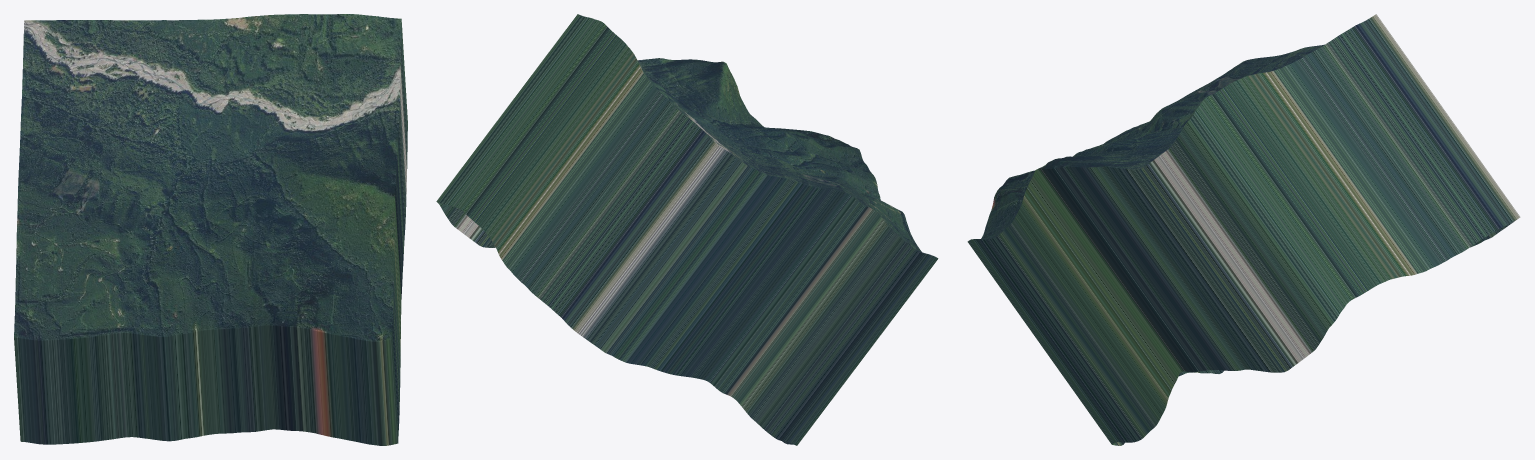
3 views of the same model, side by side, from view 1: azimuth 30°, elevation 25°; view 2: azimuth 150°, elevation 25°; view 3: azimuth 270°, elevation 25° (orthographic). The views are drawn at different scales.
Bounding box in the file's own units: 6156 × 4768 × 6658.
1 material, 1 textured.
